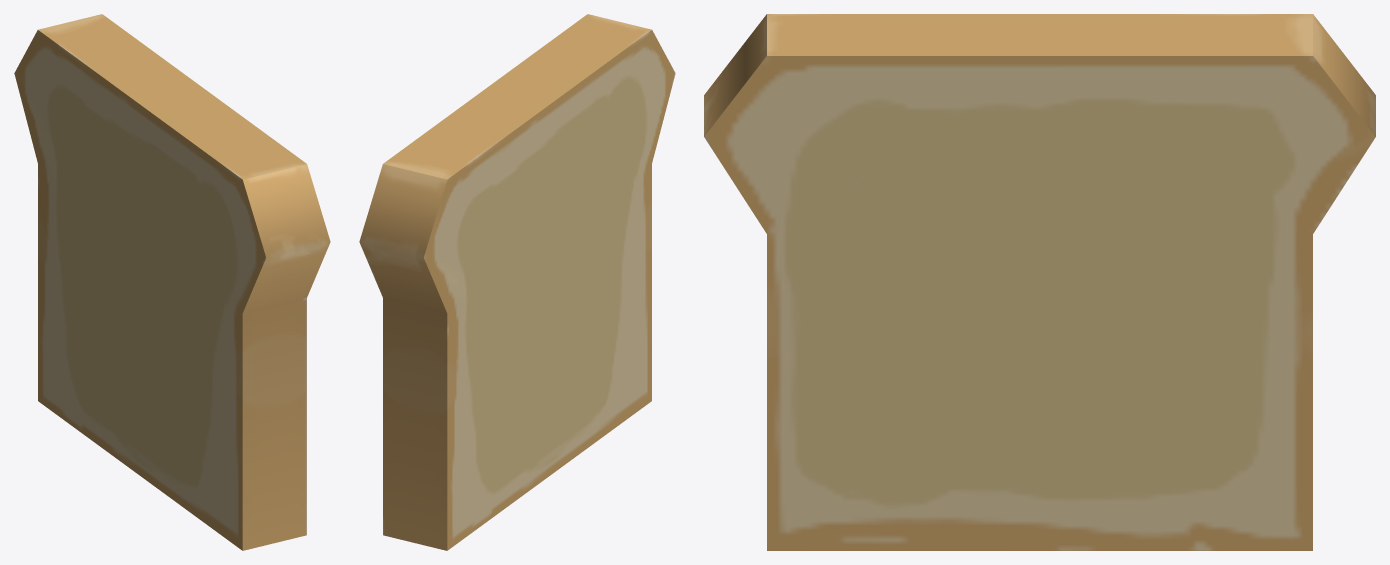
Rendered from toast.fbx.
The picture shows the model from 3 angles, left to right: view 1: azimuth 30°, elevation 25°; view 2: azimuth 150°, elevation 25°; view 3: azimuth 270°, elevation 25°; orthographic projection. The views are drawn at different scales.
Visible parts, largest first — view 1: Toast; view 2: Toast; view 3: Toast.
Boxes of the visible parts, left/top/right/bottom form: Toast: left=14, top=14, right=330, bottom=550; Toast: left=359, top=14, right=675, bottom=550; Toast: left=704, top=14, right=1375, bottom=550.
Size of the model in its own units: 0.0516 by 0.2841 by 0.3493.
